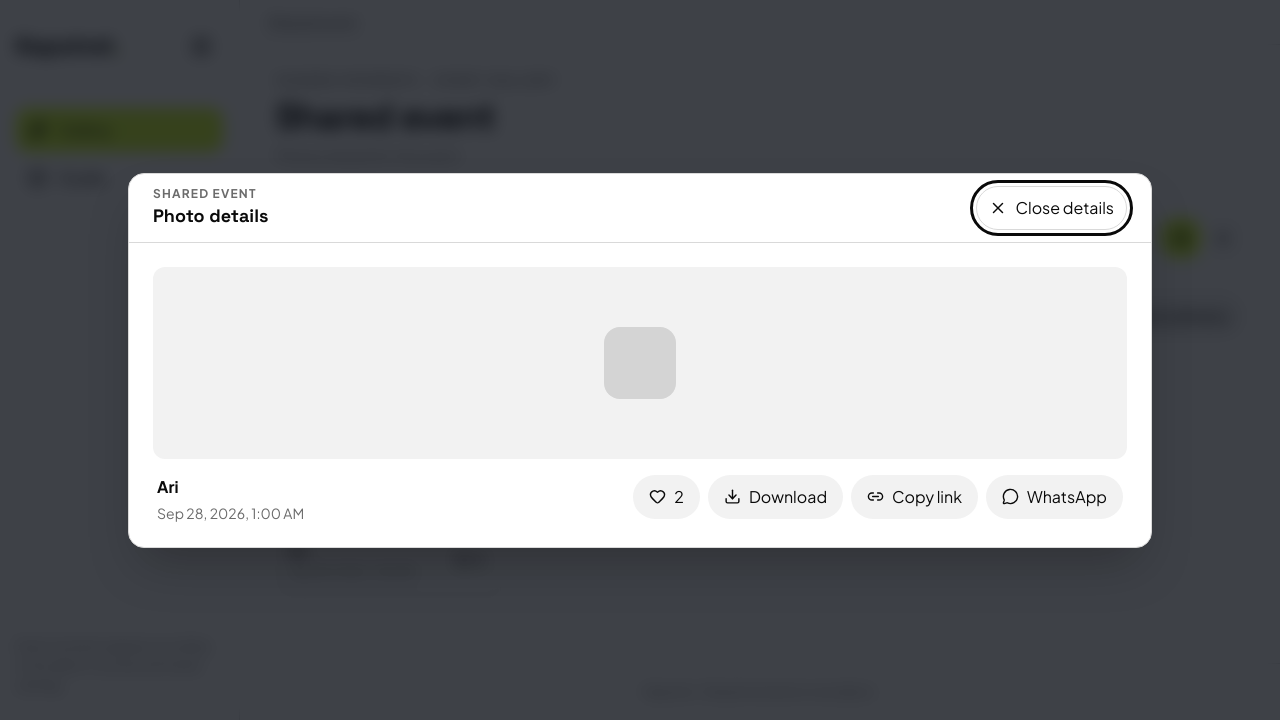
guest gallery › likes once from server state and exposes no unlike control
This screenshot has width=1280, height=720.
What coordinates should you click on to do the following:
click the button named "like photo"
I would click on:
 (667, 496)
Its box is [633, 474, 700, 518].
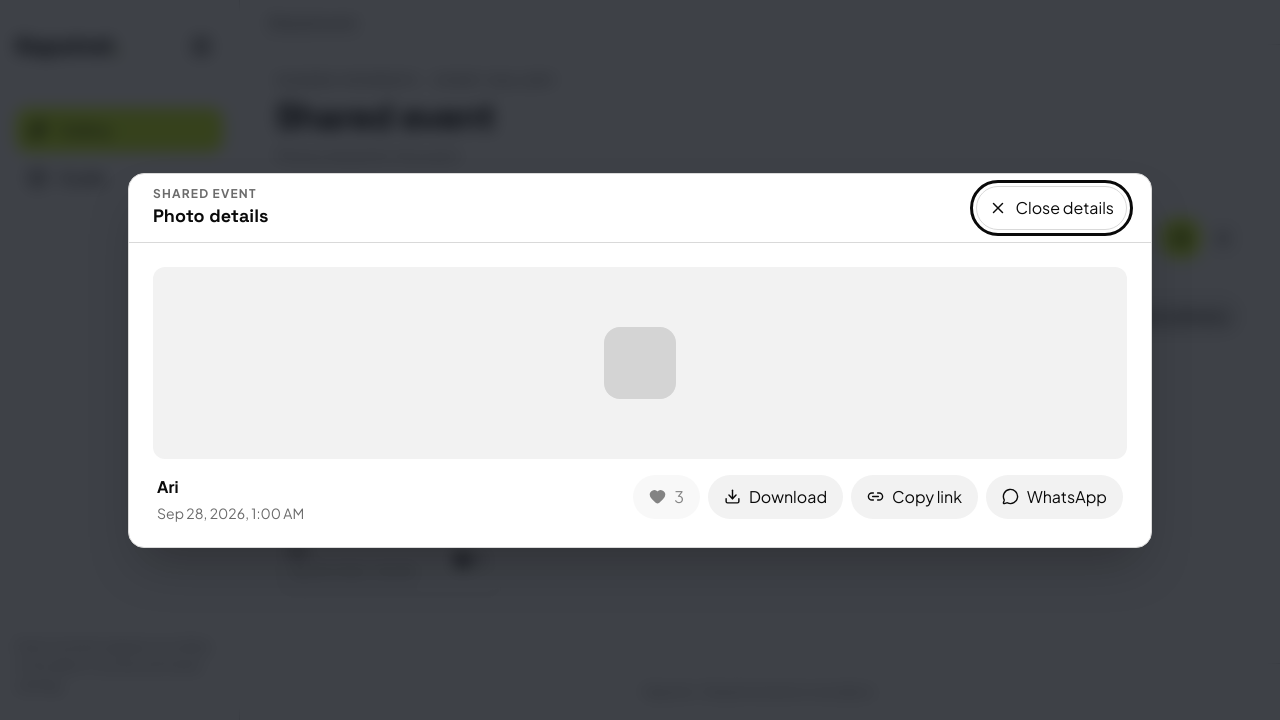
Expected: the button named "photo liked" is disabled, [633, 474, 700, 518]
